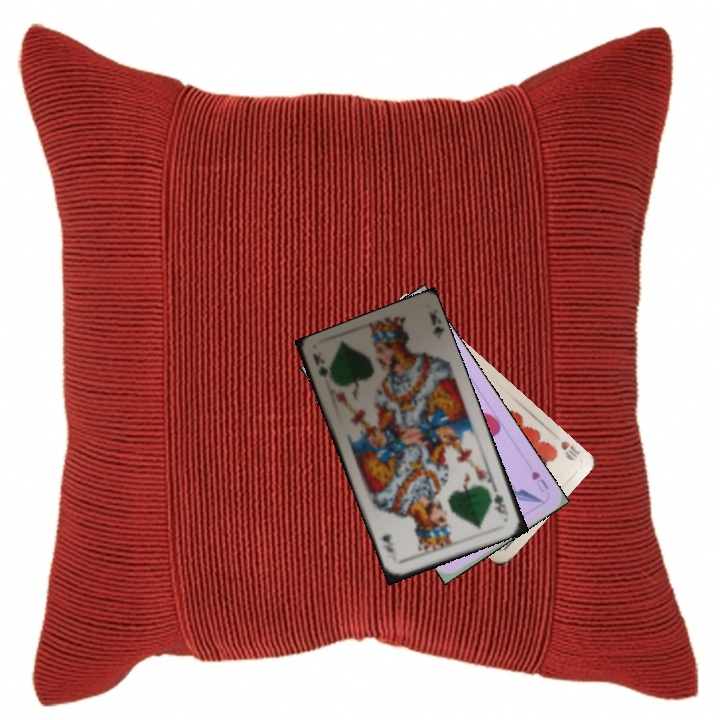GK: (489, 483, 511, 519), (309, 350, 331, 381)
H10: (556, 437, 583, 463)
HU: (527, 467, 551, 495)
